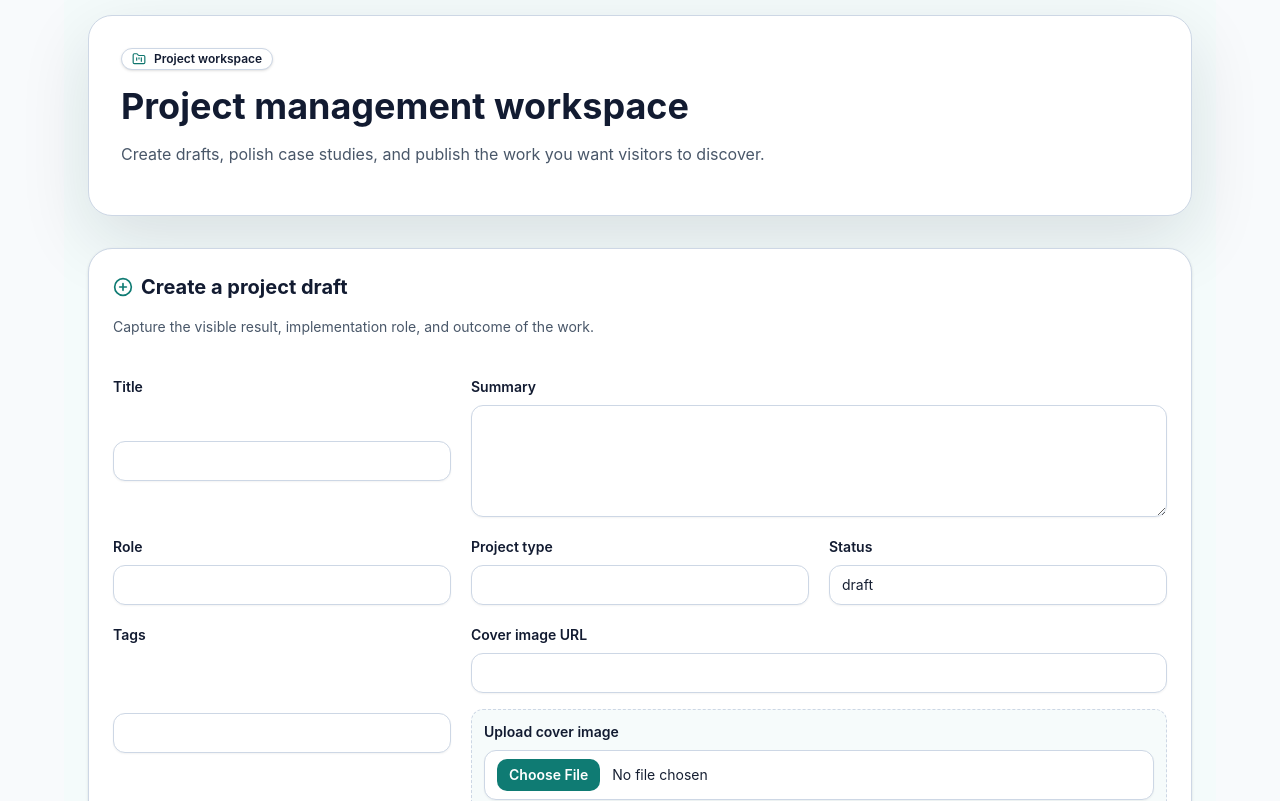
ProjectsPage session guard › adds a newly created draft project to the list
In the field labelled "Title": (282, 461) 113,441 -> 451,481, type "New Case Study"
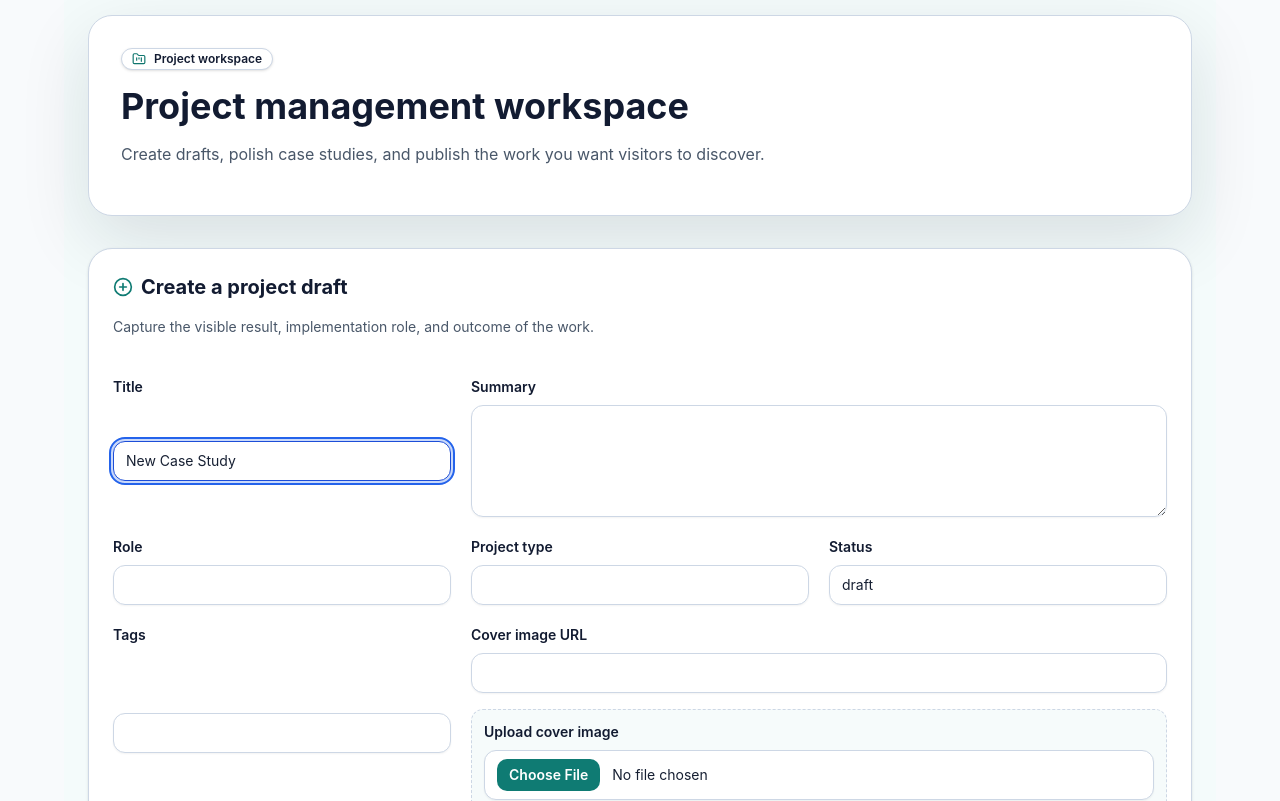
In the text box labelled "Summary": (819, 461) 471,405 -> 1167,517, type "A new project draft."
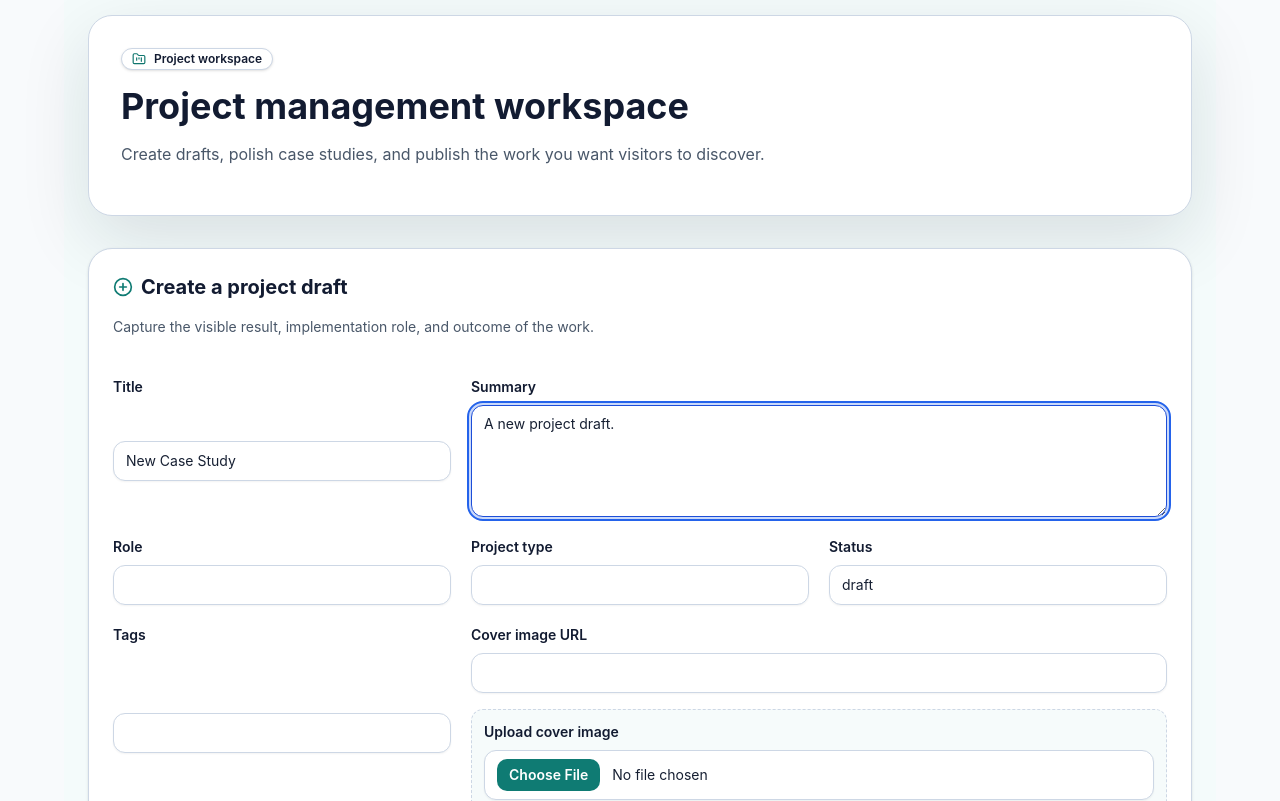
In the field labelled "Role": (282, 585) 113,565 -> 451,605, type "Developer"
(page scrolled)
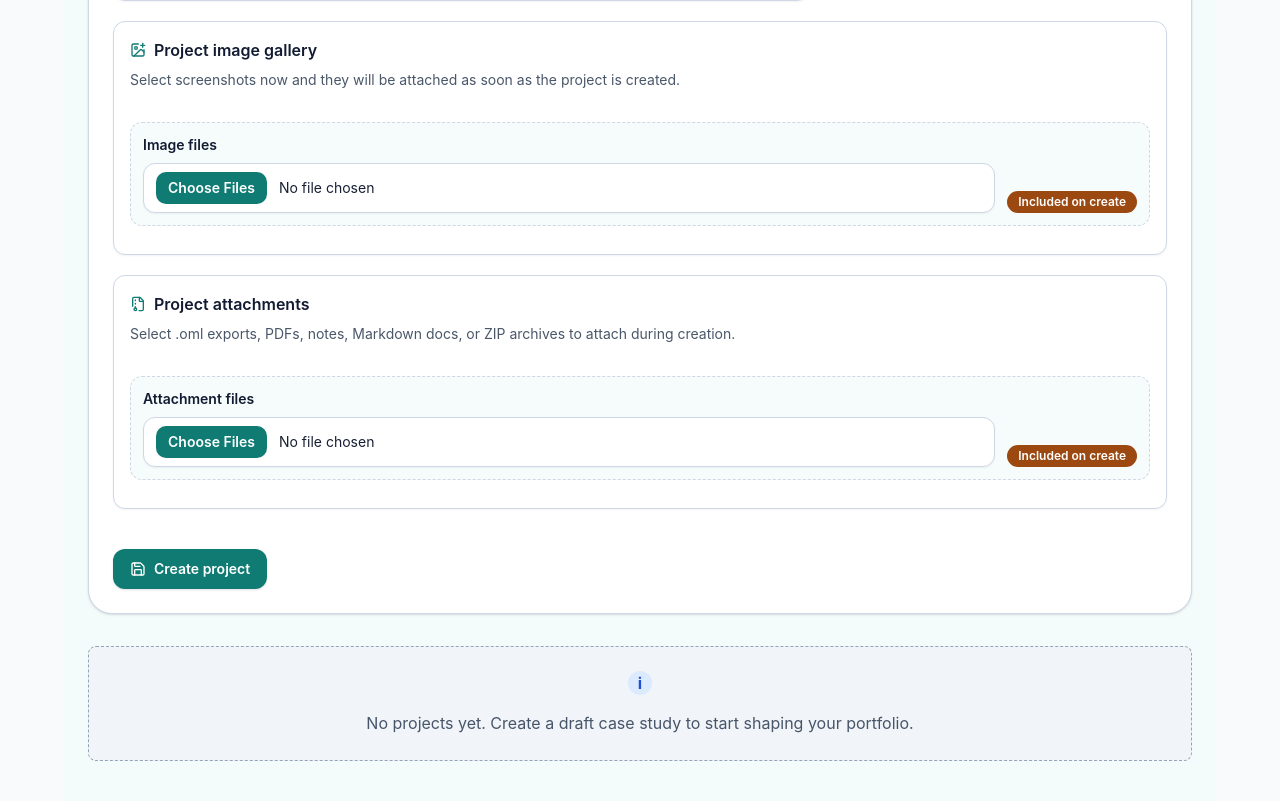
Click the button "Create project": (190, 569) 113,549 -> 267,589
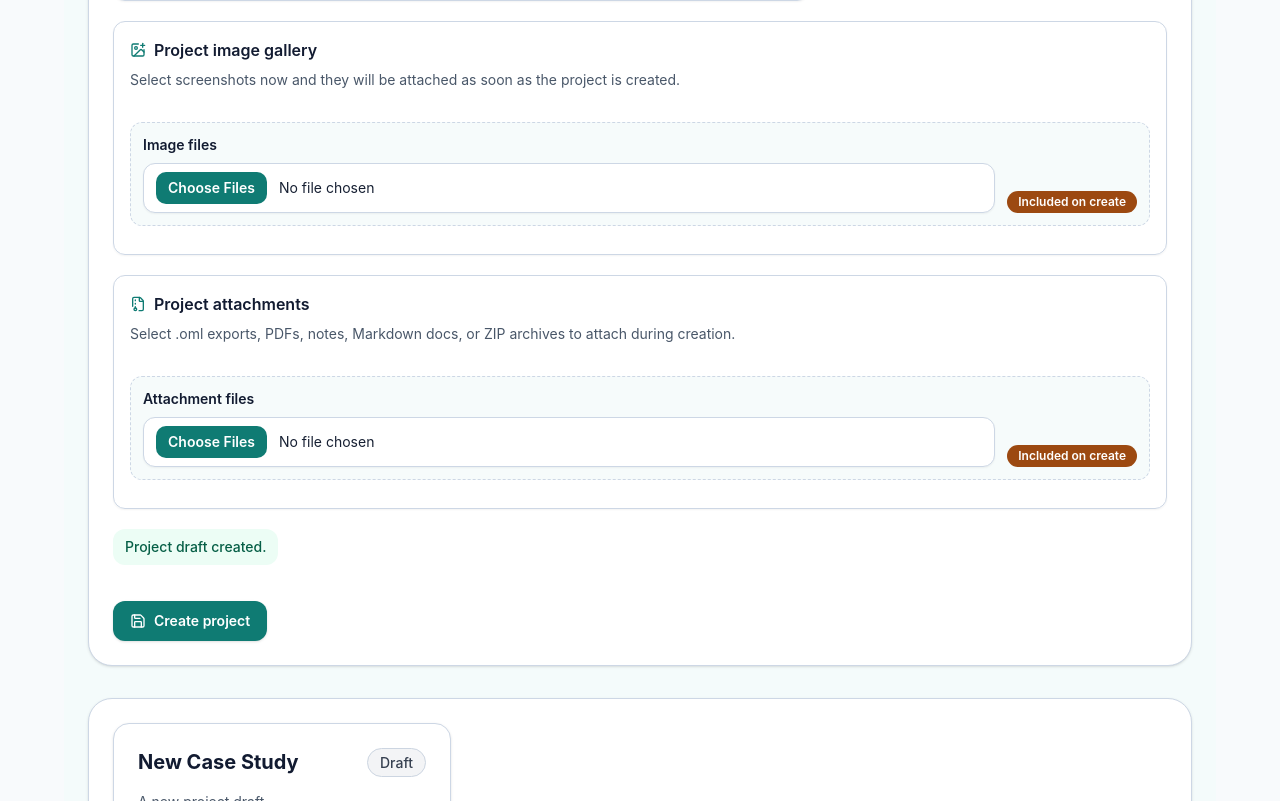
Now the heading "New Case Study" is shown, box 138,748 -> 299,776
Now the text "Draft" is shown, box 367,748 -> 426,777
